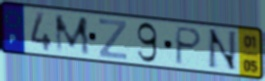4: (29, 10, 54, 53)
9: (135, 21, 159, 64)
M: (53, 14, 92, 57)
N: (206, 28, 239, 74)
P: (173, 25, 204, 67)
Z: (97, 17, 128, 62)
